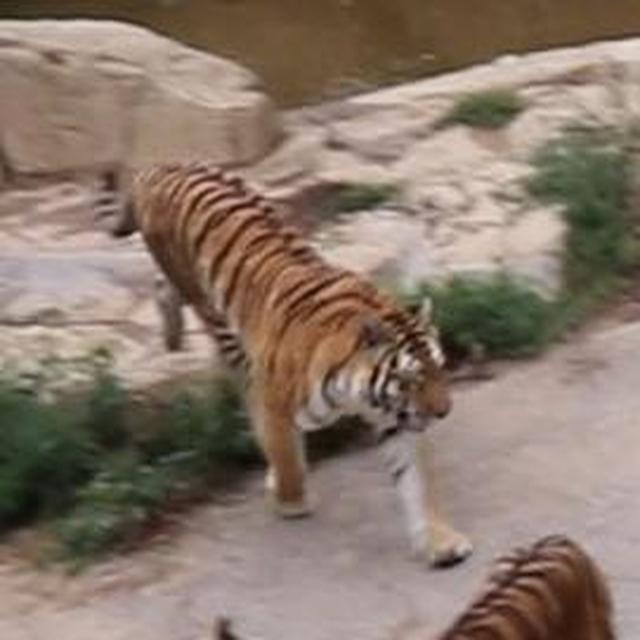tiger: (94, 130, 496, 570), (409, 510, 640, 640)
